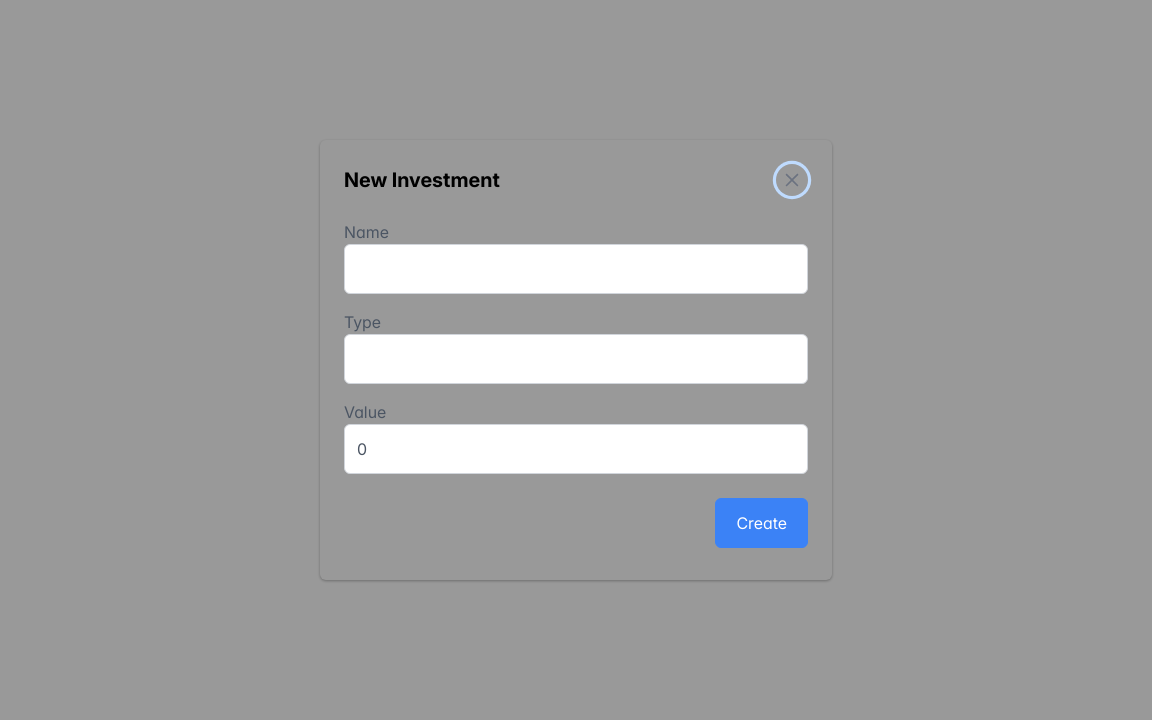
NewInvestmentDialog › when dialog is visible › disables Create button when form is submitting
Click the button "Create".
click(762, 523)  # box [715,498,808,548]
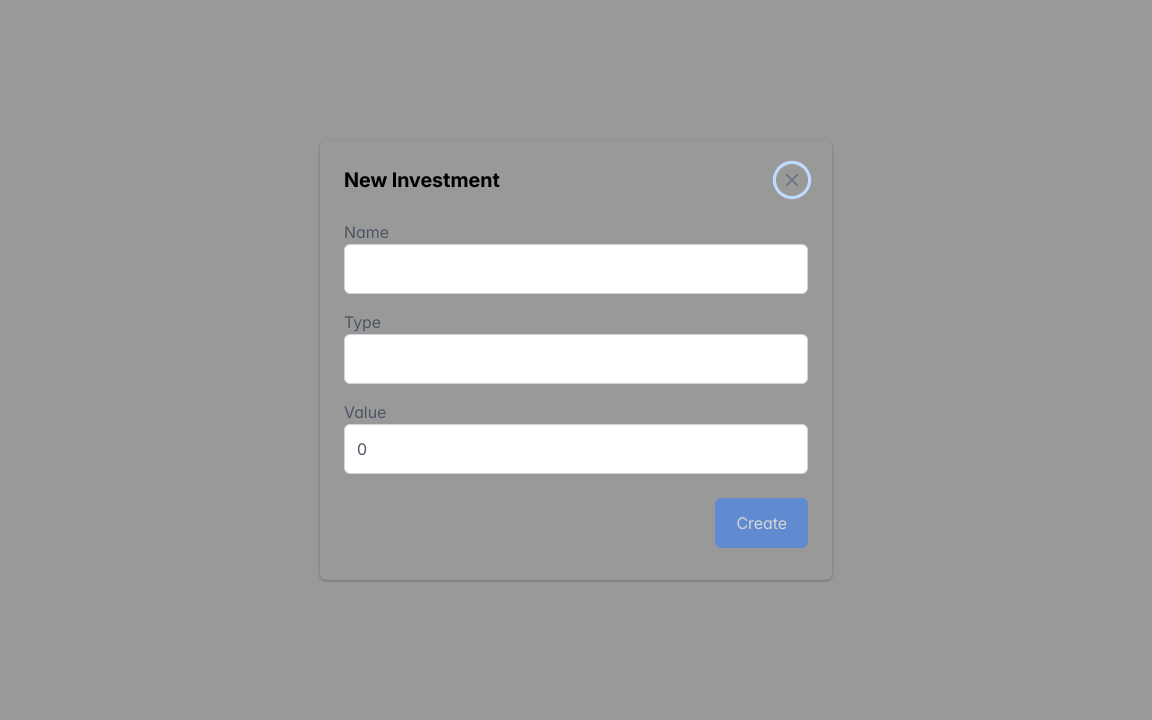
Now the button "Create" is disabled, box [715,498,808,548]
